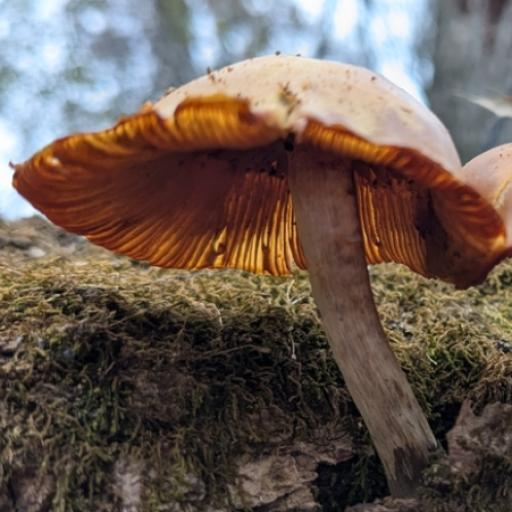mushroom: (7, 46, 510, 401)
